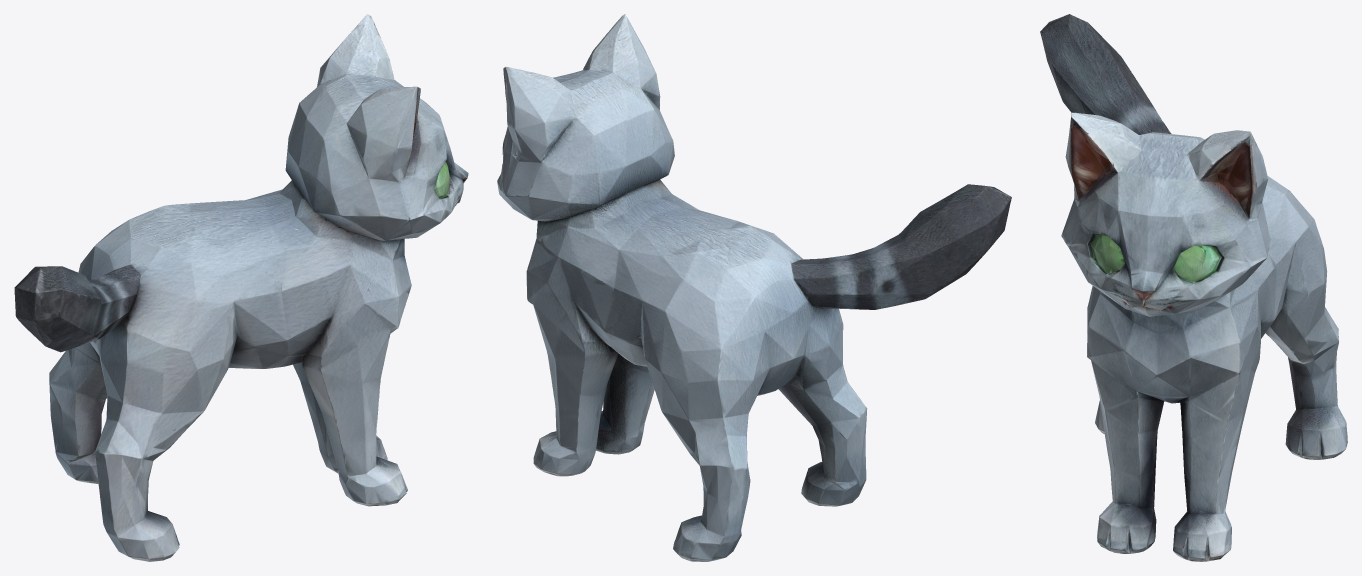
The model's file is WHIRRPAW.glb.
The picture shows the model from 3 angles, left to right: view 1: azimuth 30°, elevation 25°; view 2: azimuth 150°, elevation 25°; view 3: azimuth 270°, elevation 25°; orthographic projection. The views are drawn at different scales.
Parts seen in each view (by area): view 1: fit; view 2: fit; view 3: fit.
Boxes of the visible parts, x1,y1,x2,y2 form: fit: (14,14,468,561); fit: (497,14,1011,561); fit: (1040,14,1347,561).
Size of the model in its own units: 1.18 by 0.9997 by 0.6366.
1 material, 1 textured.
